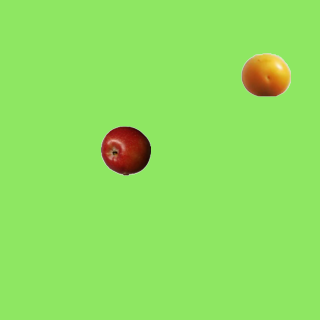Apple Braeburn: (100, 125, 150, 175)
Cherry Wax Yellow: (240, 49, 290, 99)
